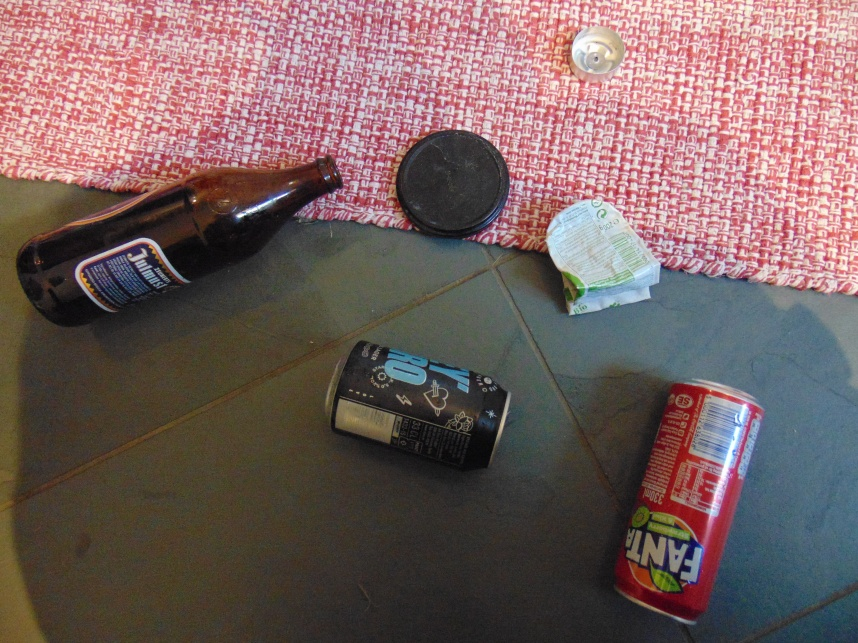glass_bottle: (17, 156, 347, 327)
metal: (547, 196, 660, 316), (396, 129, 509, 238), (568, 24, 626, 83)
metal_can: (612, 377, 768, 626), (322, 339, 512, 472)
